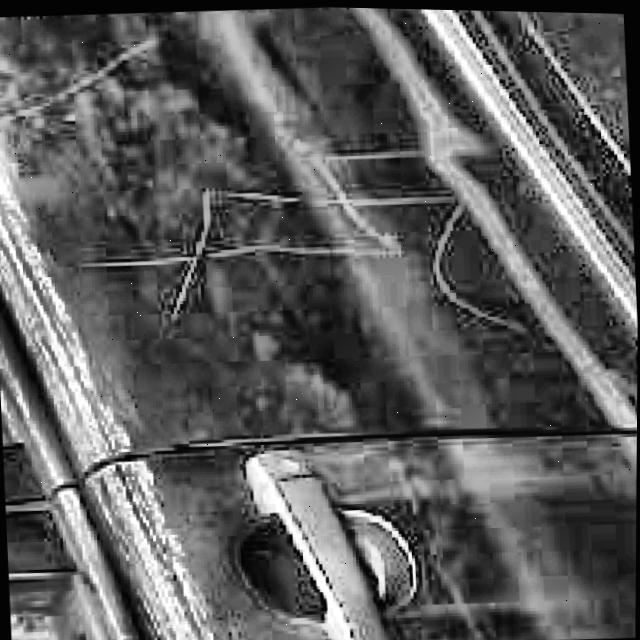door_scratch: (99, 124, 465, 316), (0, 10, 174, 145)
